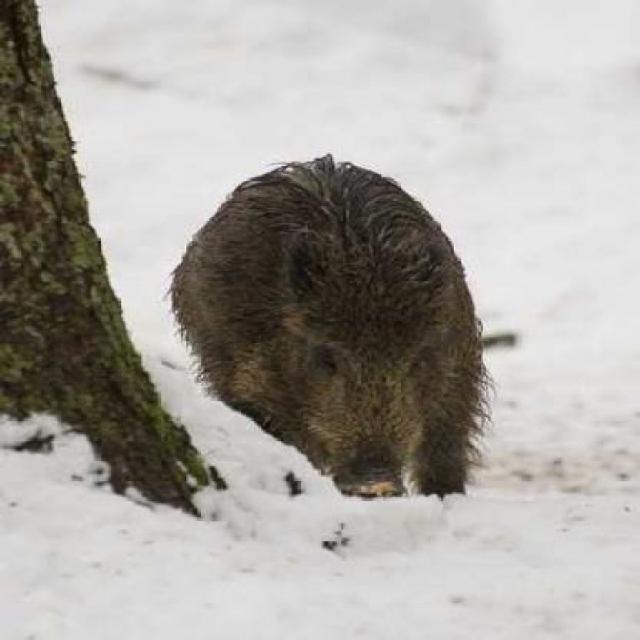pig: (166, 137, 487, 528)
